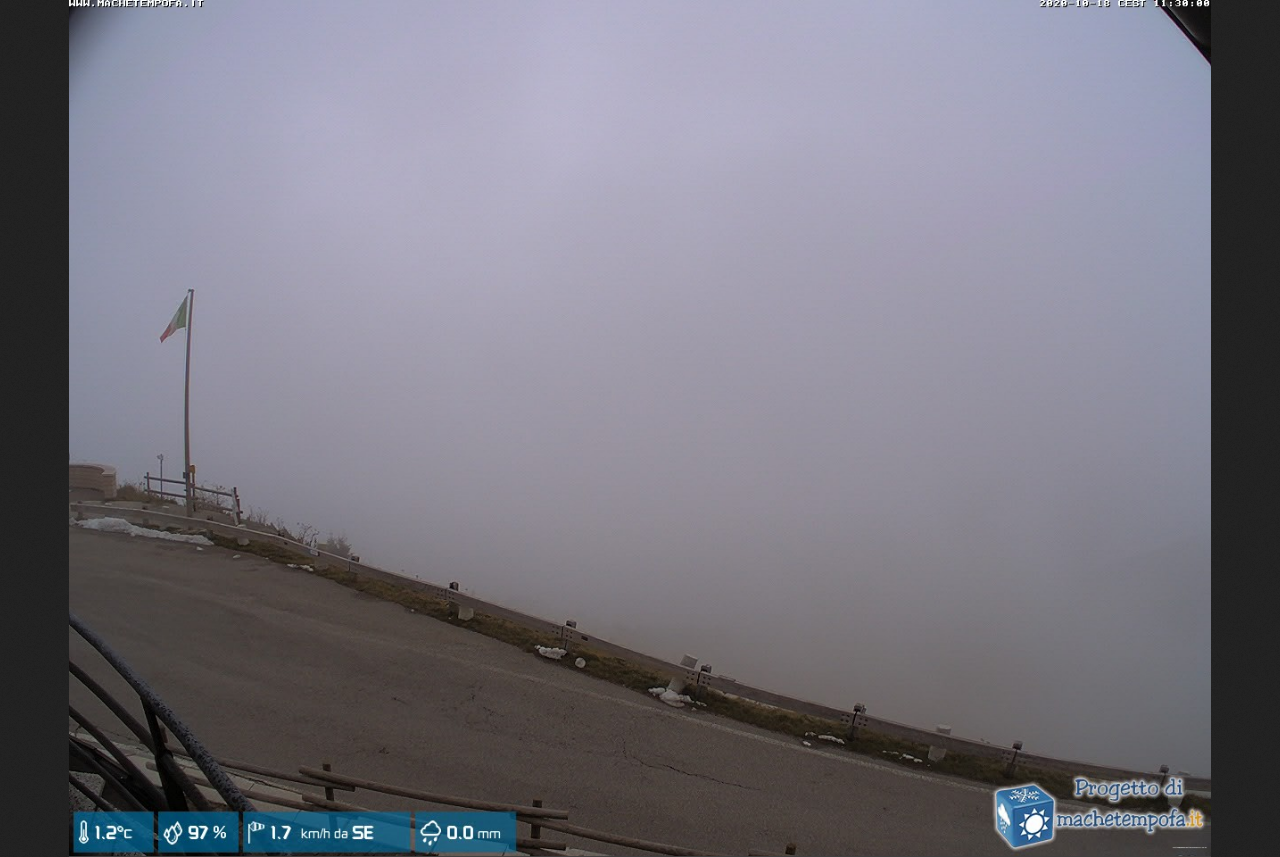maybe: (152, 282, 198, 346)
